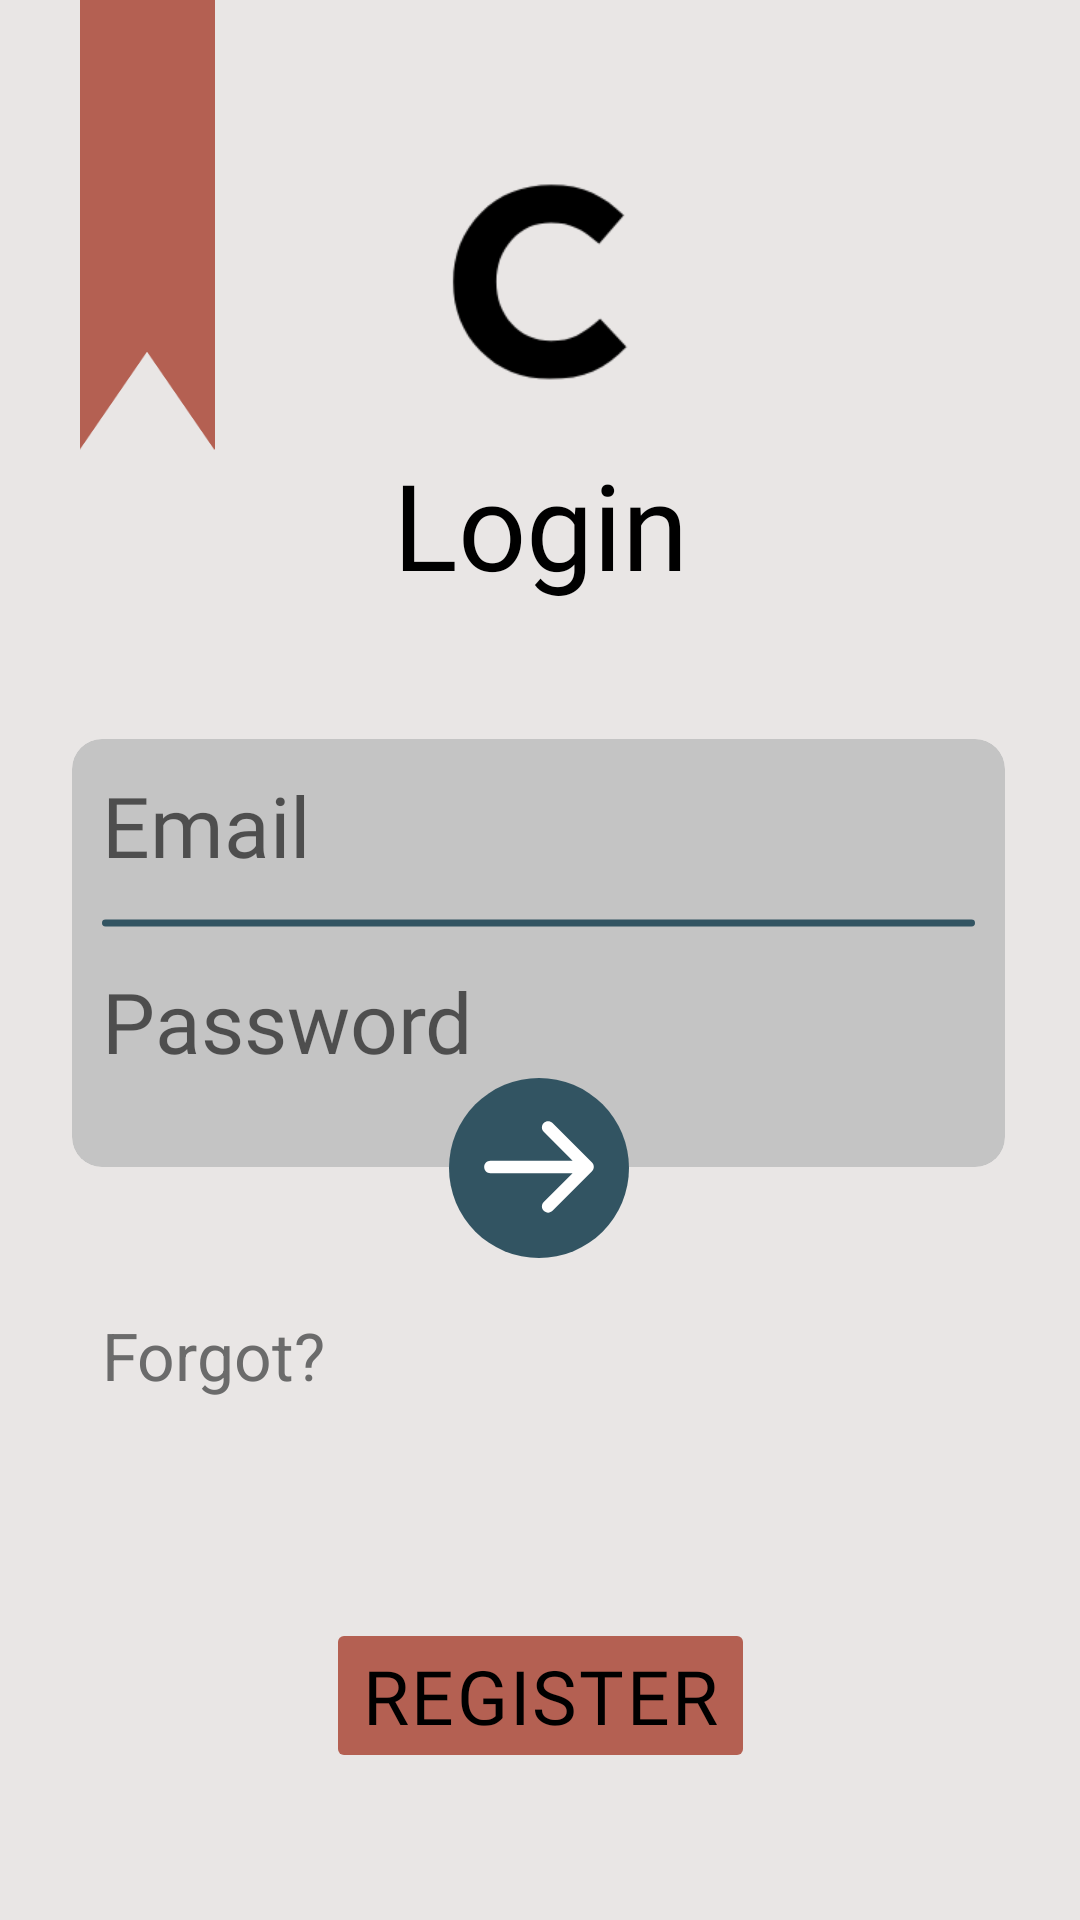

Icons on this 1080px x 1920px Android screen, each with the point to tap as (x=x, y=y):
Icon entrance: (x=539, y=1168)
